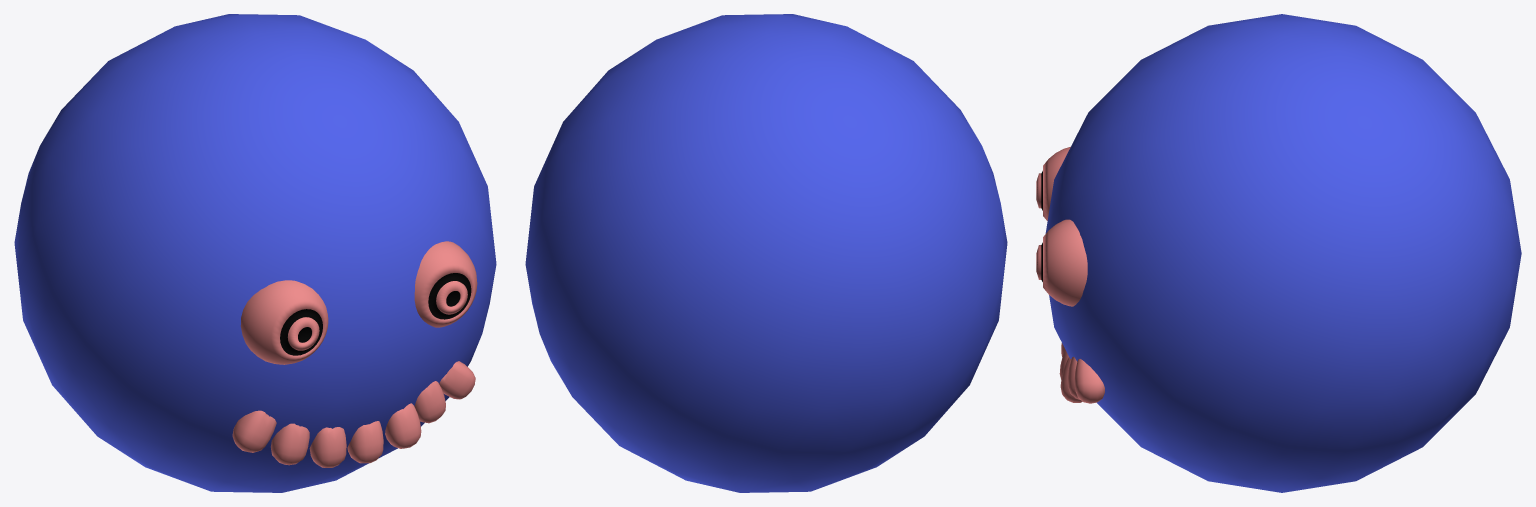
File: CraigMarble.fbx
The picture shows the model from 3 angles, left to right: view 1: azimuth 30°, elevation 25°; view 2: azimuth 150°, elevation 25°; view 3: azimuth 270°, elevation 25°; orthographic projection.
Visible parts, largest first — view 1: Icosphere.001, Sphere.001, Cube.008; view 2: Icosphere.001; view 3: Icosphere.001, Sphere.001, Cube.008.
Part boxes in pixels (x1,y1,x2,y2): Icosphere.001: (14,14,496,492); Sphere.001: (240,241,477,364); Cube.008: (232,361,475,467); Icosphere.001: (525,14,1007,492); Icosphere.001: (1045,14,1521,492); Sphere.001: (1036,146,1087,306); Cube.008: (1059,343,1104,403).
Bounding box in the file's own units: 64.1 × 64.1 × 64.93.
